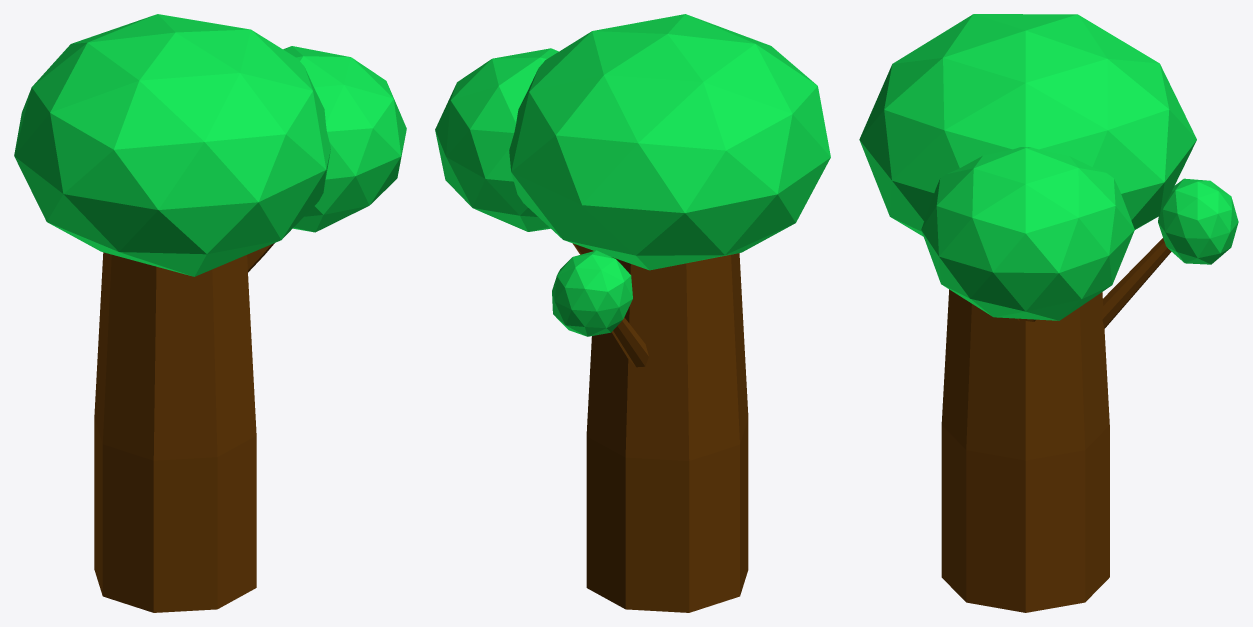
File: Arbre.fbx
3 views of the same model, side by side, from view 1: azimuth 30°, elevation 25°; view 2: azimuth 150°, elevation 25°; view 3: azimuth 270°, elevation 25° (orthographic).
Parts seen in each view (by area): view 1: Icosphere, Cylinder; view 2: Icosphere, Cylinder; view 3: Icosphere, Cylinder.
Part boxes in pixels (bbox=[...]): Icosphere: bbox=[14, 14, 406, 276]; Cylinder: bbox=[94, 243, 274, 612]; Icosphere: bbox=[435, 14, 830, 336]; Cylinder: bbox=[572, 243, 748, 612]; Icosphere: bbox=[859, 14, 1238, 320]; Cylinder: bbox=[941, 238, 1171, 612].
Size of the model in its own units: 487 by 717 by 451.
